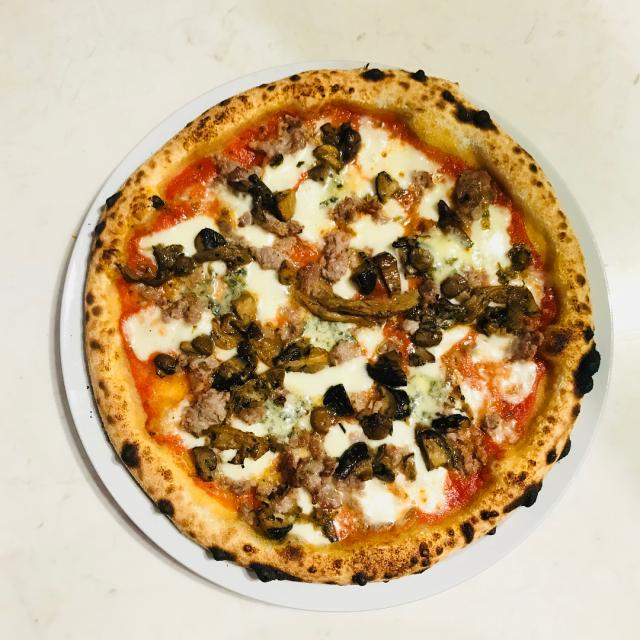pizza: (80, 65, 600, 589)
